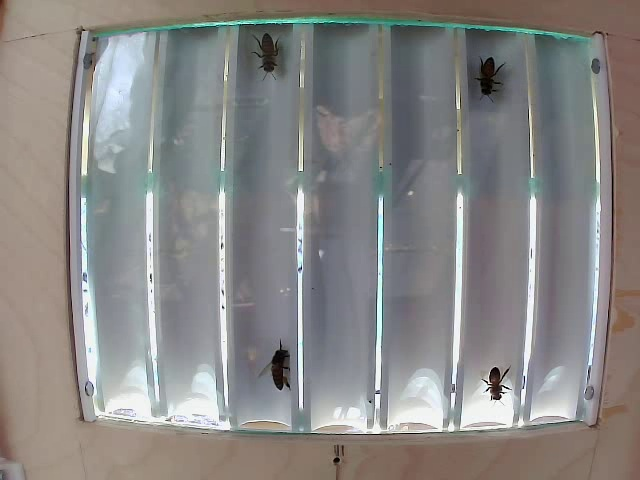bee: (258, 332, 307, 384), (472, 367, 522, 417), (472, 52, 515, 104), (243, 26, 281, 75)
